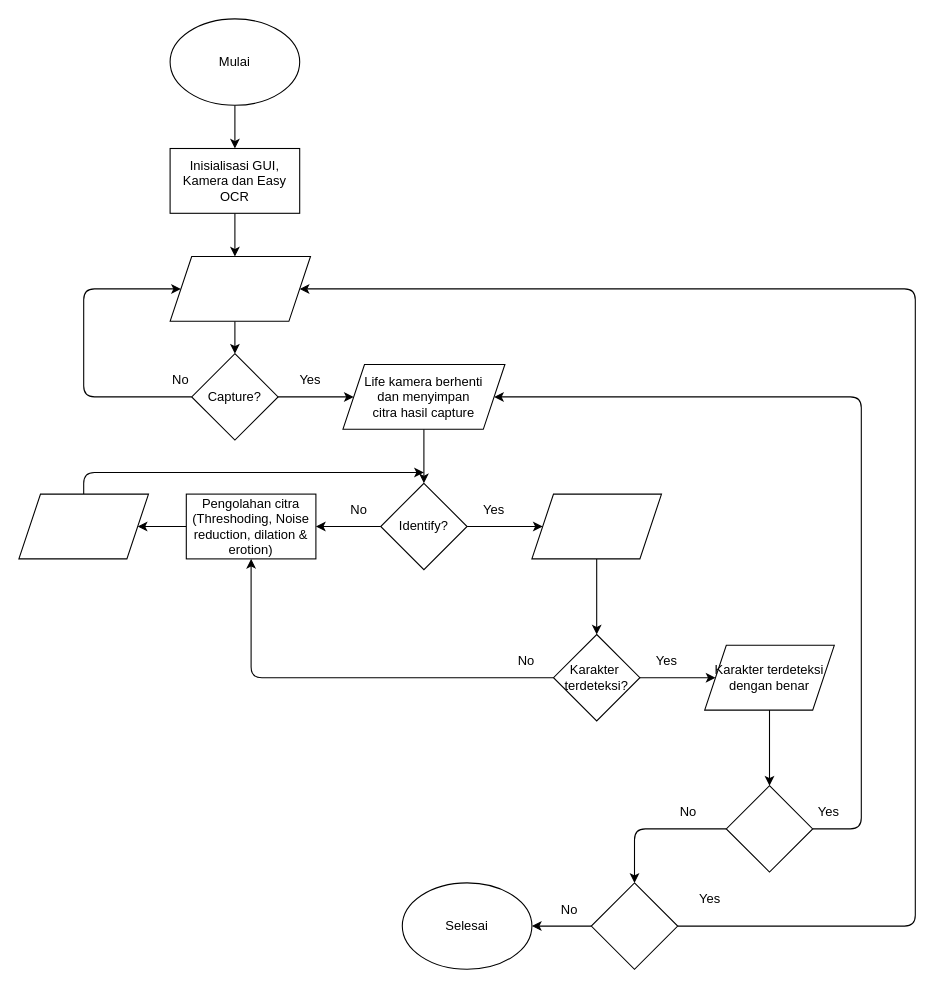
Some shapes in this 943 by 988 pixel diagram are drawn without their labels. The shapes that lost their labels are listed below. From the top down, each one's box as (x1, y1, x2, y2) in pixels, then its label:
(169, 255, 310, 321): Life kamera (membaca citra secara realtime)
(18, 493, 148, 559): Citra yang sudah diolah
(531, 493, 662, 559): Output OCR
(725, 785, 813, 872): Reset Proses?
(590, 882, 678, 969): Reset Kamera?
